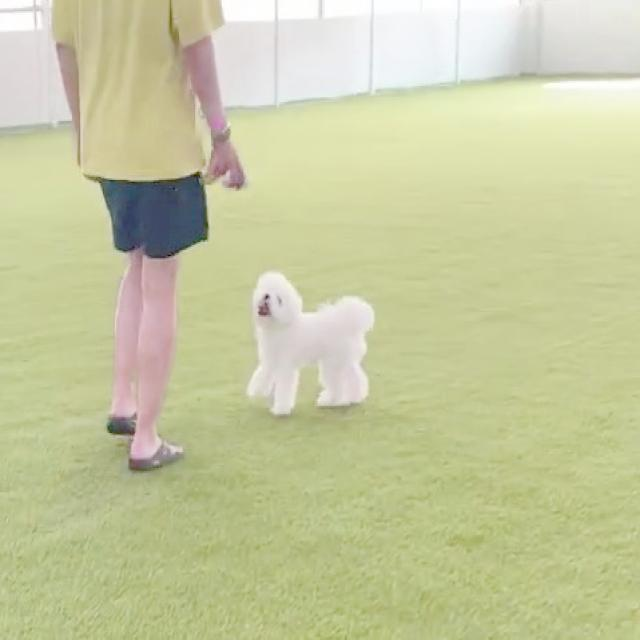Unleashed_Dog: (128, 269, 374, 471)
